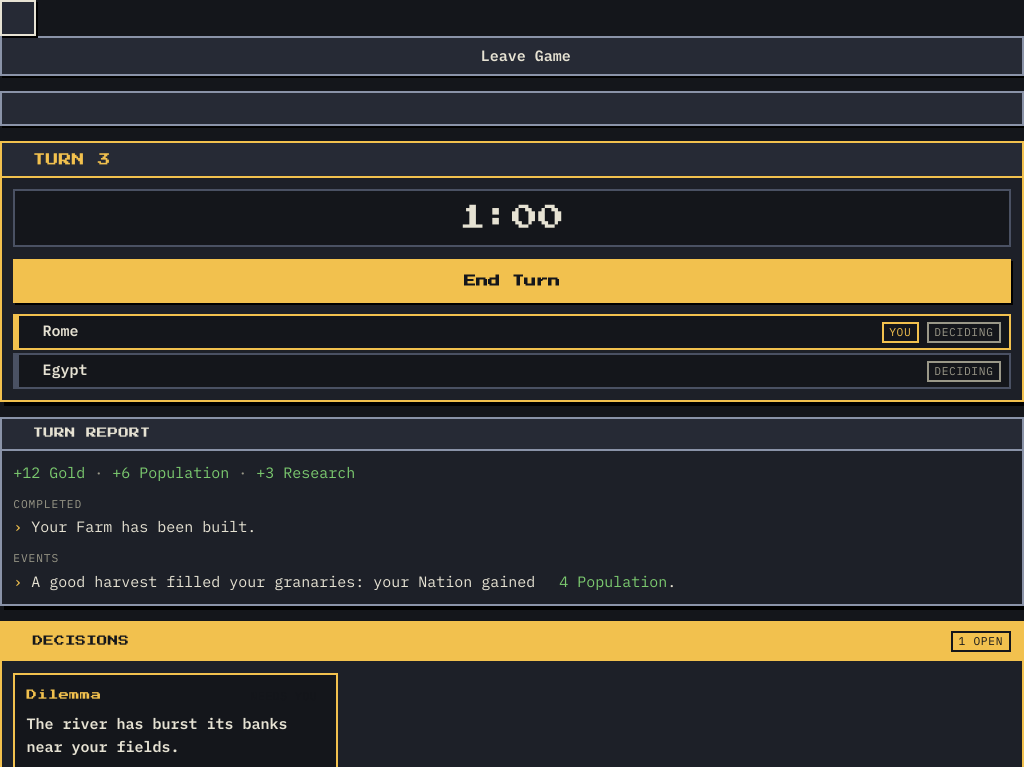
Scenario: Messages drawer › closes from the header toggle
Click the button named "Messages": (512, 108) [0,90,1023,126]
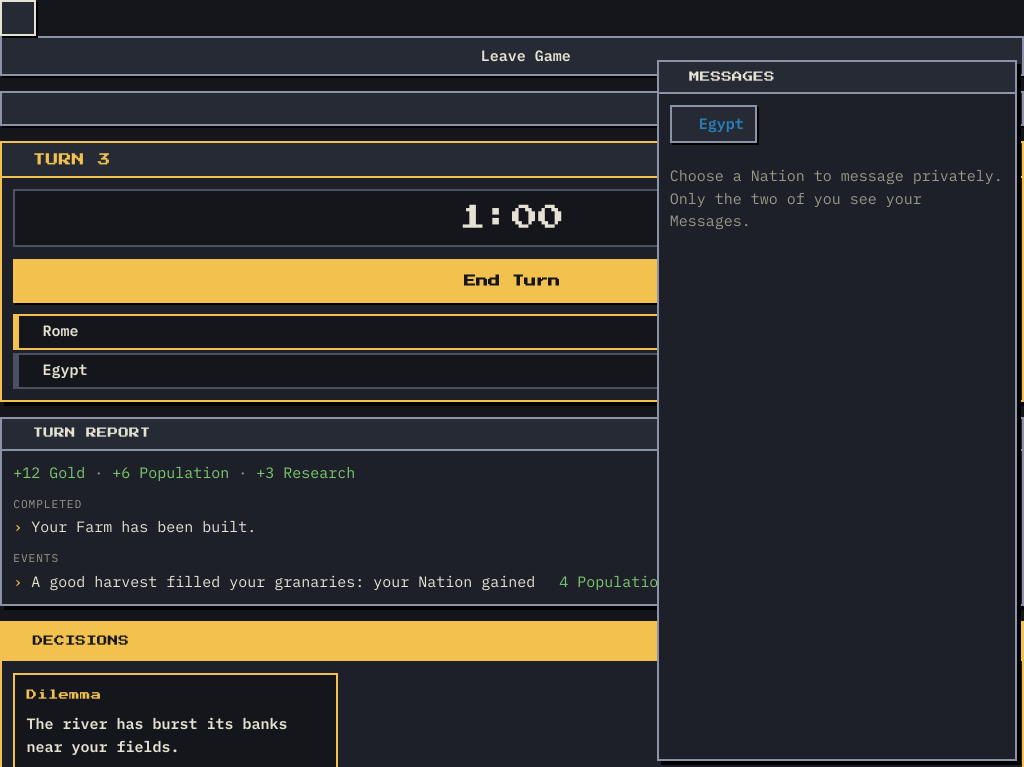
Now the button named "Messages" is expanded
Click the button named "Messages": (512, 108) [0,90,1023,126]
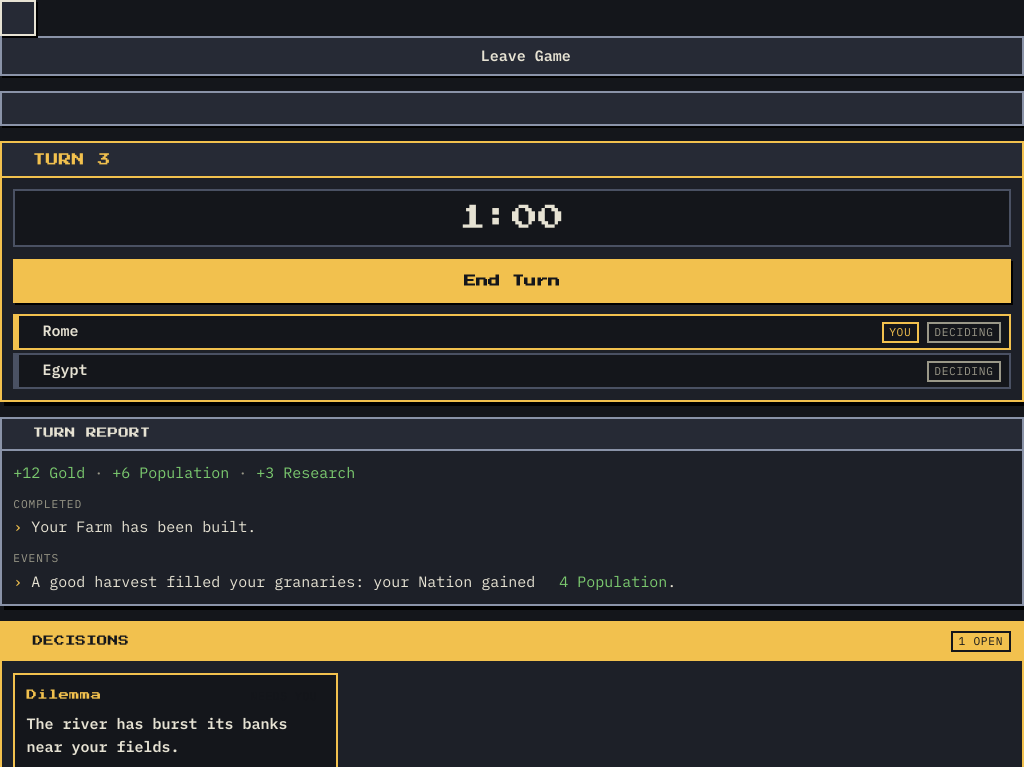
Now the heading "Messages" is gone
